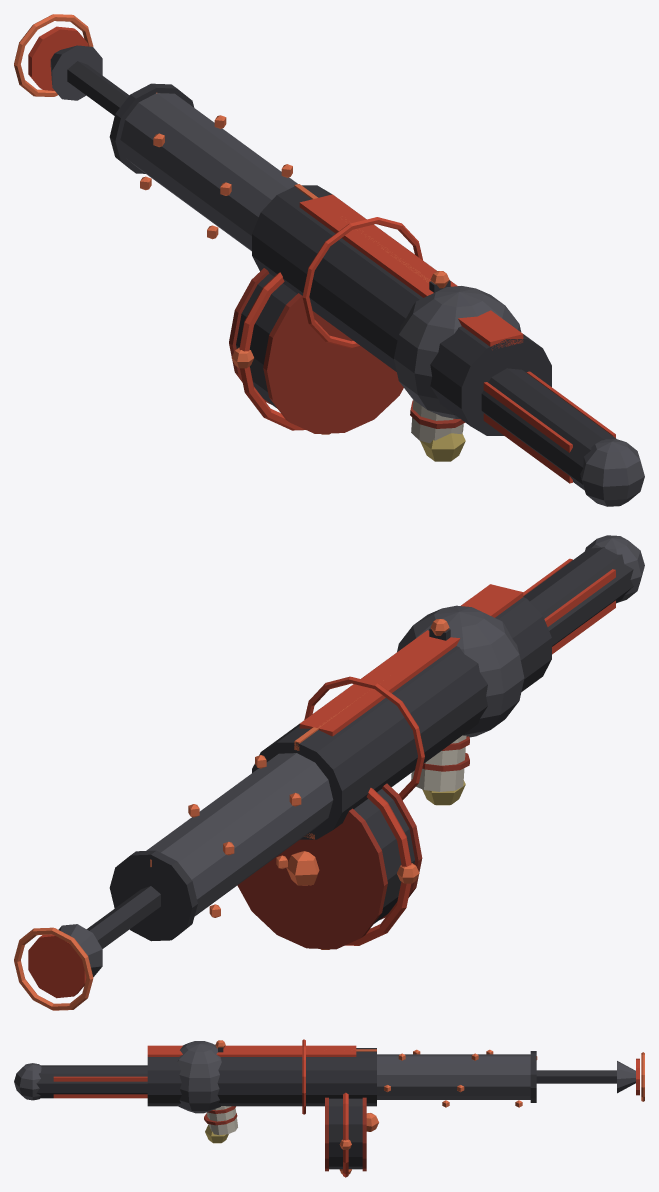
The model's file is kosmos7.glb.
3 renders of one model, top to bottom at view 1: azimuth 30°, elevation 25°; view 2: azimuth 150°, elevation 25°; view 3: azimuth 270°, elevation 25°, orthographic. The views are drawn at different scales.
Visible parts, largest first — view 1: kosmos7; view 2: kosmos7; view 3: kosmos7.
Boxes of the visible parts, x1,y1,x2,y2 form: kosmos7: (14,14,644,506); kosmos7: (14,535,644,1010); kosmos7: (14,1039,644,1177).
Size of the model in its own units: 0.1104 by 0.143 by 0.6047.
